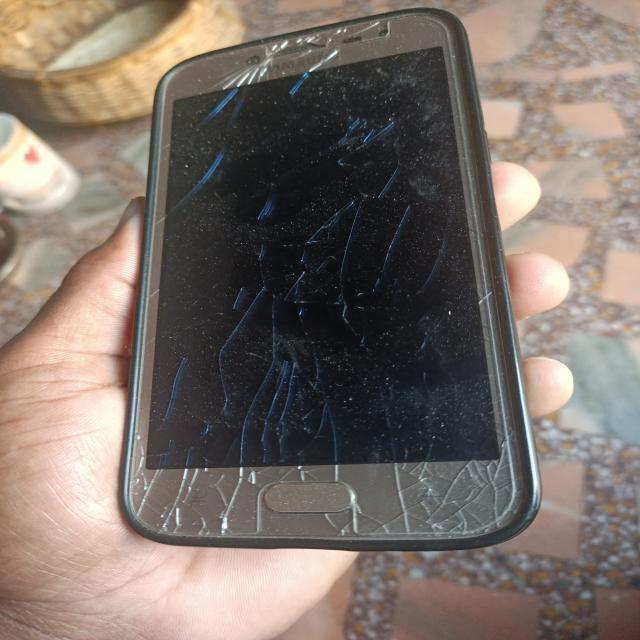screen crack: (130, 11, 514, 533)
